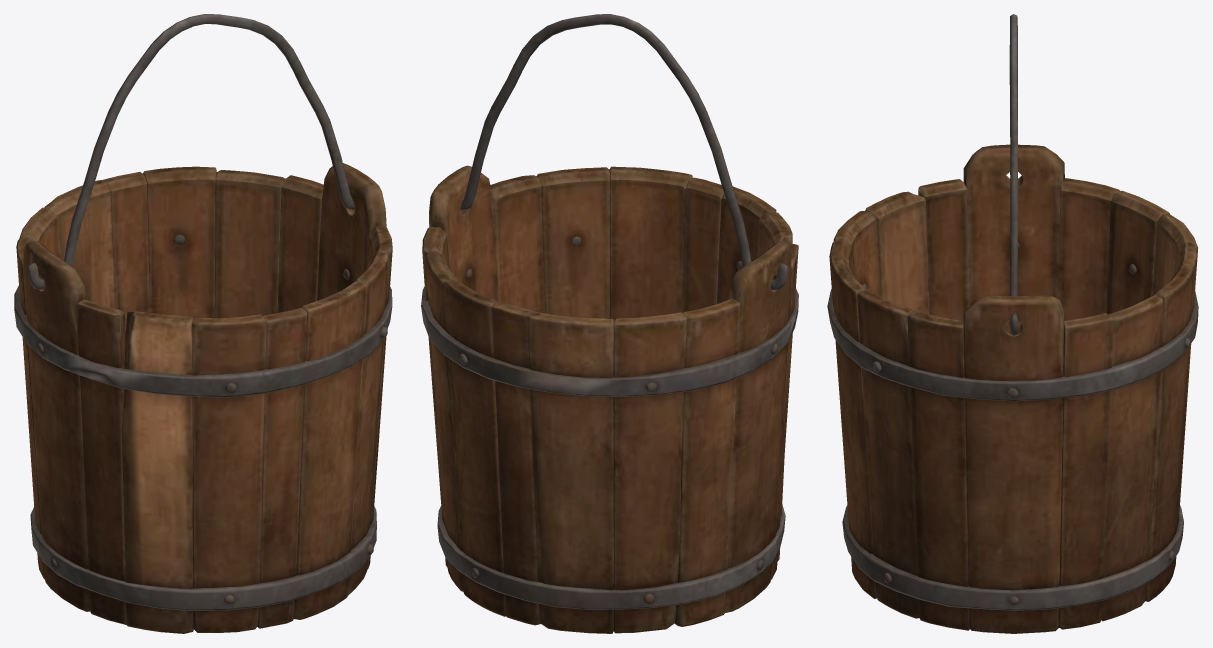
File: wooden_bucket_01.glb
The picture shows the model from 3 angles, left to right: view 1: azimuth 30°, elevation 25°; view 2: azimuth 150°, elevation 25°; view 3: azimuth 270°, elevation 25°; orthographic projection.
Parts seen in each view (by area): view 1: wooden_bucket_01, wooden_bucket_01_handle; view 2: wooden_bucket_01, wooden_bucket_01_handle; view 3: wooden_bucket_01, wooden_bucket_01_handle.
Part boxes in pixels (box(x1,y1,x2,y2)): wooden_bucket_01: box(14, 163, 392, 633); wooden_bucket_01_handle: box(28, 14, 354, 289); wooden_bucket_01: box(421, 165, 798, 633); wooden_bucket_01_handle: box(438, 14, 787, 290); wooden_bucket_01: box(827, 144, 1198, 633); wooden_bucket_01_handle: box(1009, 14, 1018, 335).
Size of the model in its own units: 0.367 by 0.5499 by 0.3422.
1 material, 1 textured.
